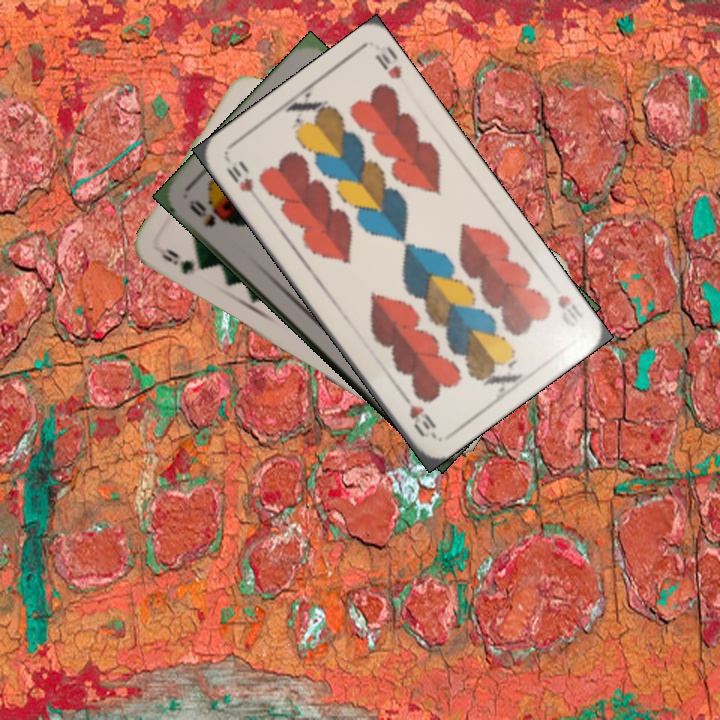G9: (157, 247, 197, 277)
H10: (222, 162, 263, 206), (553, 291, 586, 322)
SO: (185, 195, 228, 231)
